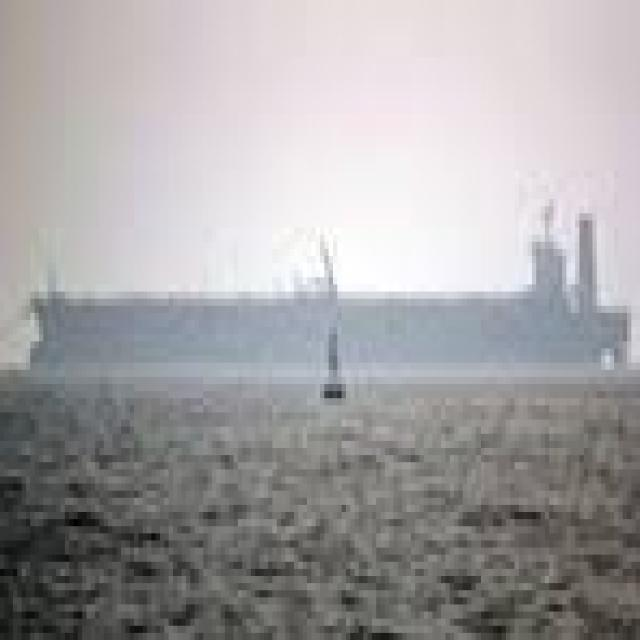cargoship: (30, 212, 629, 370)
